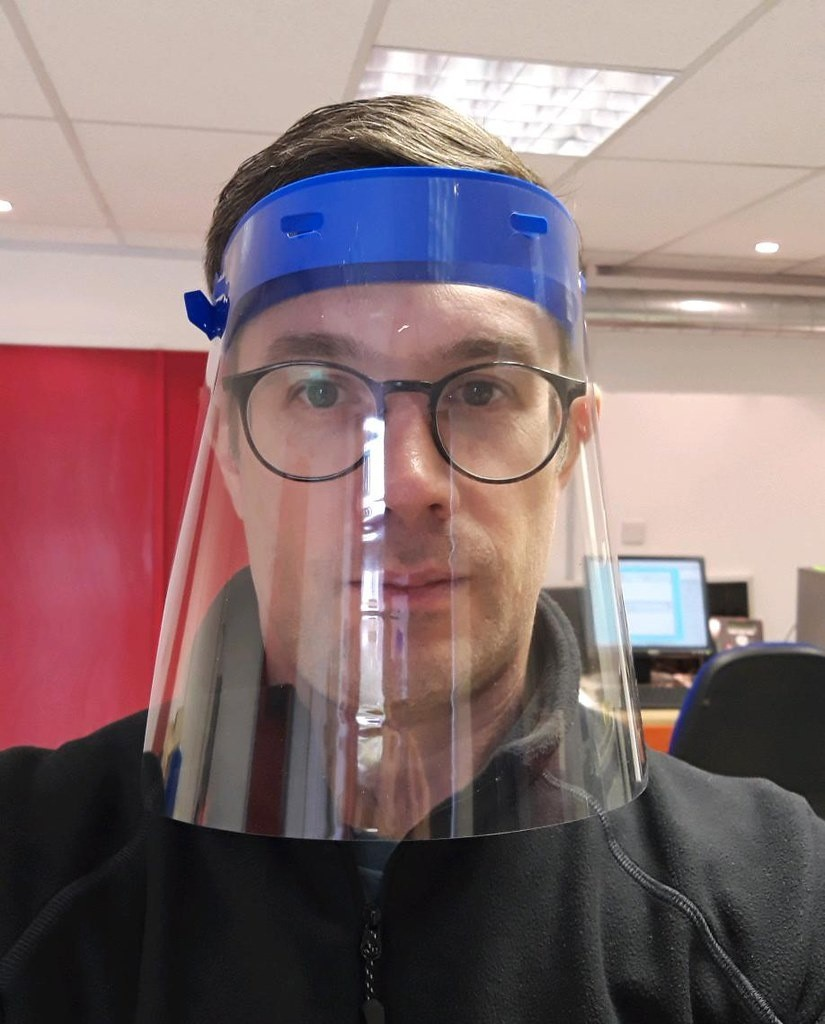face_no_mask: (222, 193, 572, 708)
